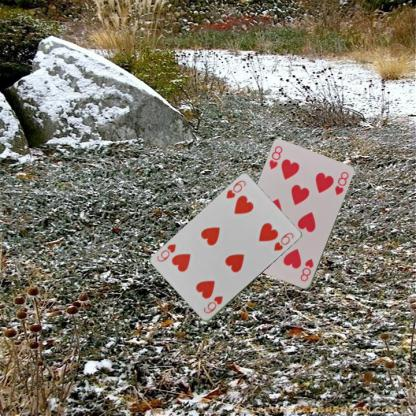6h: (224, 177, 247, 200), (201, 293, 224, 315)
8h: (266, 143, 284, 171), (297, 256, 315, 283)
